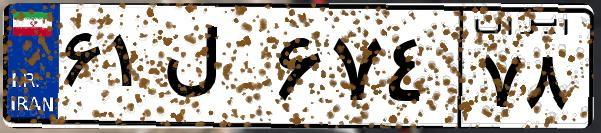1: (110, 28, 158, 98)
4: (385, 28, 445, 110)
6: (270, 28, 330, 110), (57, 26, 110, 100)
7: (330, 28, 385, 110), (475, 38, 525, 113)
8: (525, 38, 570, 115)
ل: (158, 20, 270, 120)
